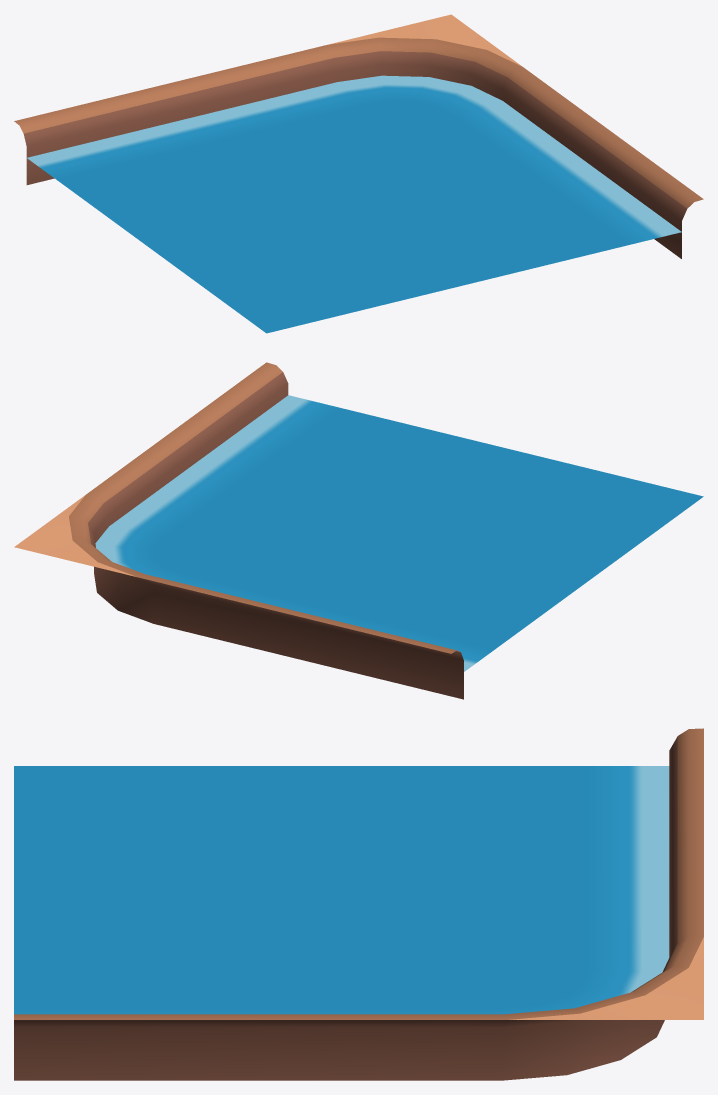
File: water_outer.glb
The picture shows the model from 3 angles, top to bottom: view 1: azimuth 30°, elevation 25°; view 2: azimuth 150°, elevation 25°; view 3: azimuth 270°, elevation 25°; orthographic projection. The views are drawn at different scales.
Visible parts, largest first — view 1: water_outer; view 2: water_outer; view 3: water_outer.
Part boxes in pixels (x1,y1,x2,y2): water_outer: (14, 14, 703, 333); water_outer: (14, 362, 703, 699); water_outer: (14, 728, 703, 1080).
Bounding box in the file's own units: 1 × 0.12 × 1.
4 materials, 2 textured.
